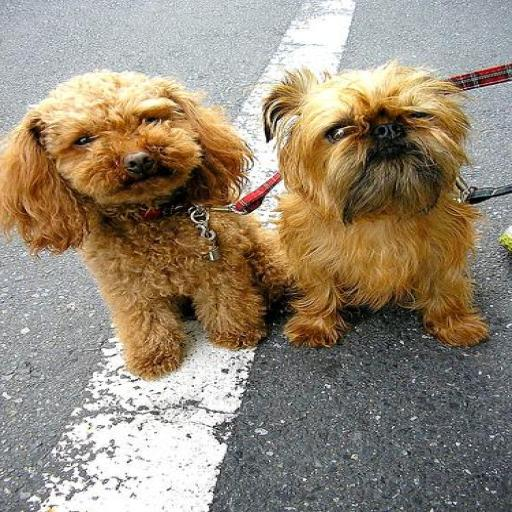dog_face: (6, 74, 249, 240), (272, 71, 467, 216)
